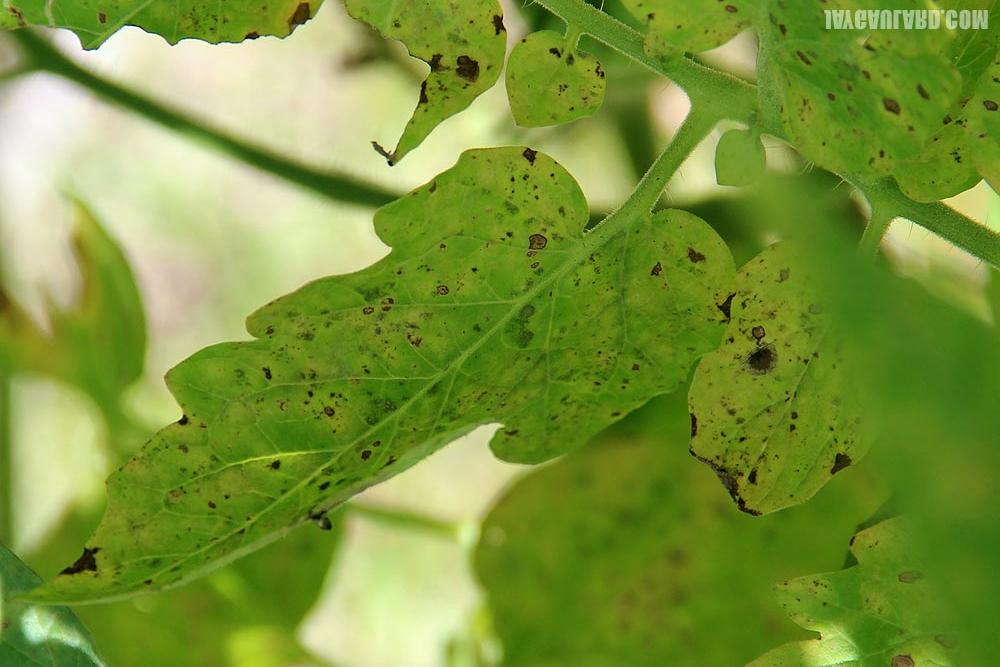Tomato Septoria leaf spot: (36, 161, 739, 614), (655, 170, 909, 567)
